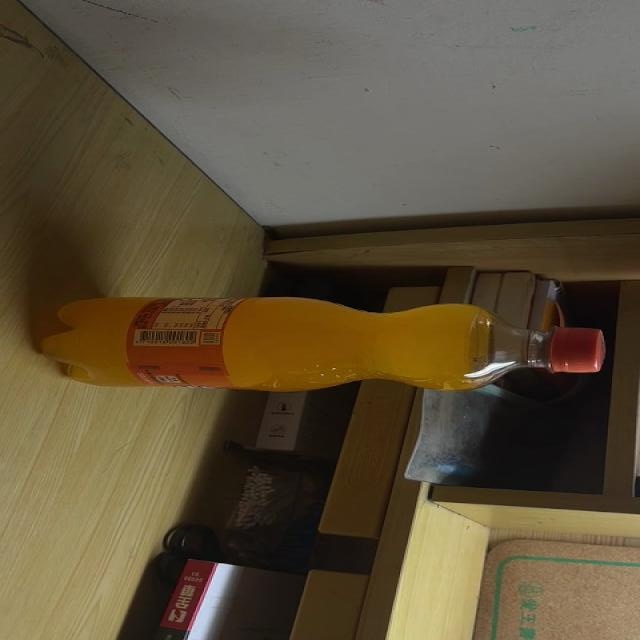Fanta: (39, 296, 607, 393)
